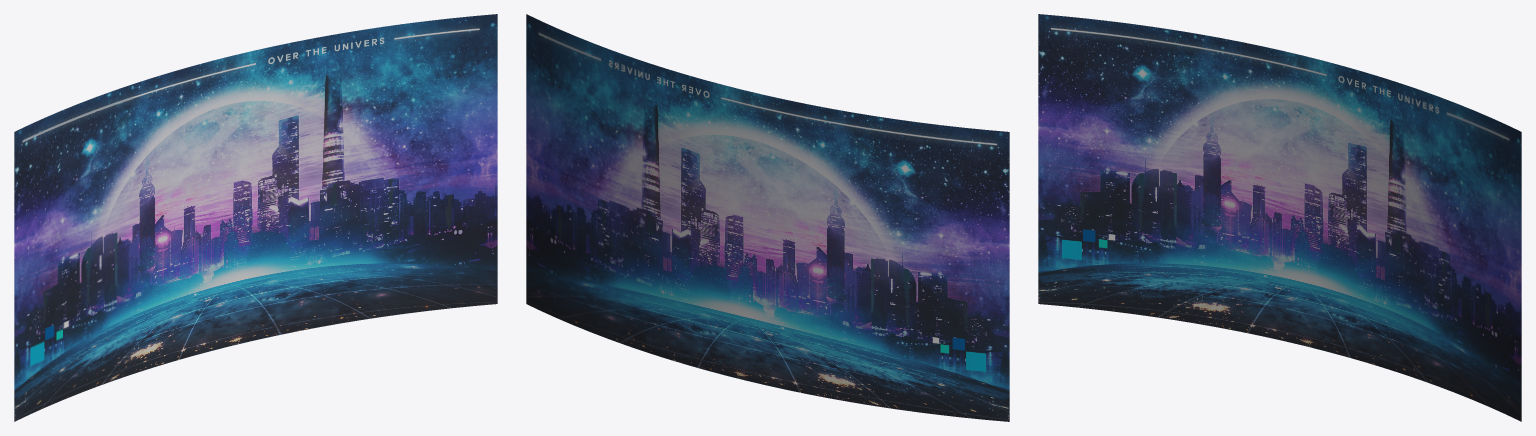
Rendered from MICE_Screen_Lecture_01.fbx.
3 views of the same model, side by side, from view 1: azimuth 30°, elevation 25°; view 2: azimuth 150°, elevation 25°; view 3: azimuth 330°, elevation 25° (orthographic).
Visible parts, largest first — view 1: MICE_Screen_Lecture_01; view 2: MICE_Screen_Lecture_01; view 3: MICE_Screen_Lecture_01.
Part boxes in pixels (x1=…): MICE_Screen_Lecture_01: x1=14, y1=14, x2=497, y2=421; MICE_Screen_Lecture_01: x1=526, y1=14, x2=1009, y2=421; MICE_Screen_Lecture_01: x1=1038, y1=14, x2=1521, y2=421.
Bounding box in the file's own units: 14.13 × 1.19 × 8.1.
